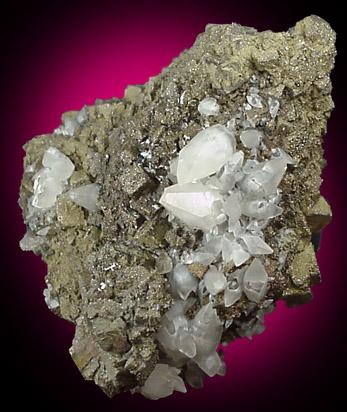calcite: (140, 124, 293, 400), (27, 147, 101, 232)
